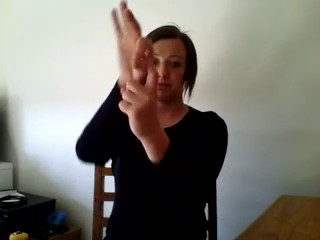Q: (106, 1, 166, 151)
